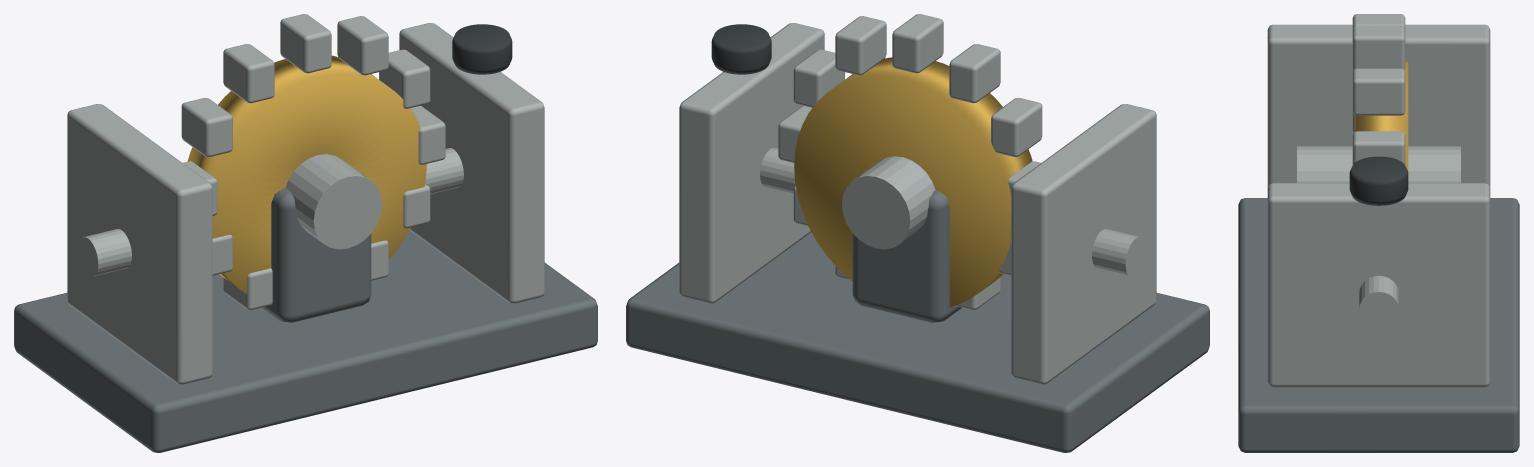
File: automated-parking-and-vehicle-retrieval-automated-park-90dc15f0__30385.glb
3 renders of one model, left to right at view 1: azimuth 30°, elevation 25°; view 2: azimuth 150°, elevation 25°; view 3: azimuth 270°, elevation 25°, orthographic. The views are drawn at different scales.
Visible parts, largest first — view 1: automated-parking-and-vehicle-retrieval-drive-chain-tensione (×4); view 2: automated-parking-and-vehicle-retrieval-drive-chain-tensione (×4); view 3: automated-parking-and-vehicle-retrieval-drive-chain-tensione (×4).
Boxes of the visible parts, x1=… form: automated-parking-and-vehicle-retrieval-drive-chain-tensione (×4): x1=14, y1=14, x2=597, y2=452; automated-parking-and-vehicle-retrieval-drive-chain-tensione (×4): x1=626, y1=14, x2=1209, y2=452; automated-parking-and-vehicle-retrieval-drive-chain-tensione (×4): x1=1238, y1=14, x2=1519, y2=452.
Size of the model in its own units: 0.43 by 0.3 by 0.24.
